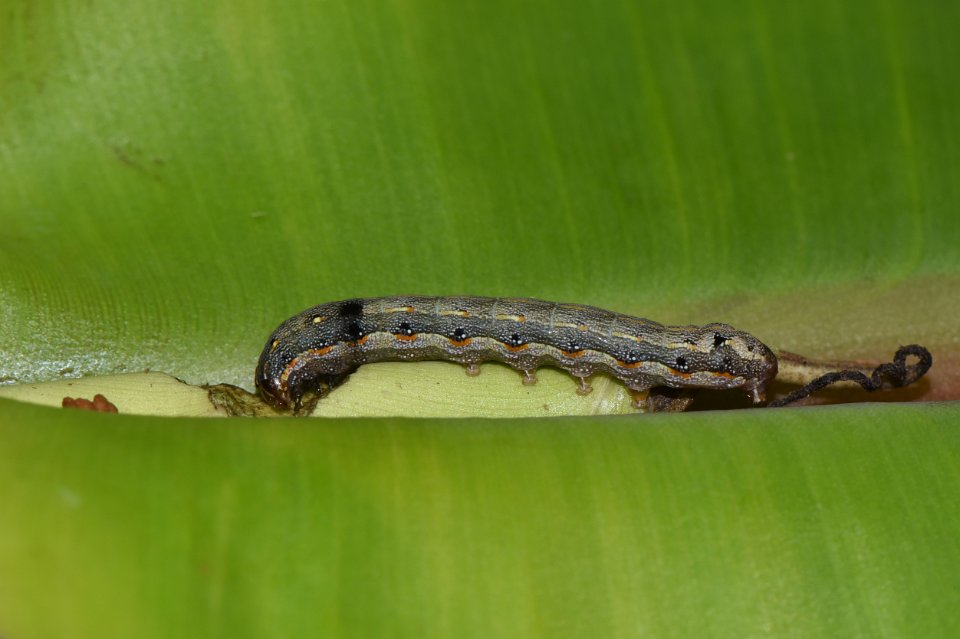Armyworm: (253, 278, 760, 442)
